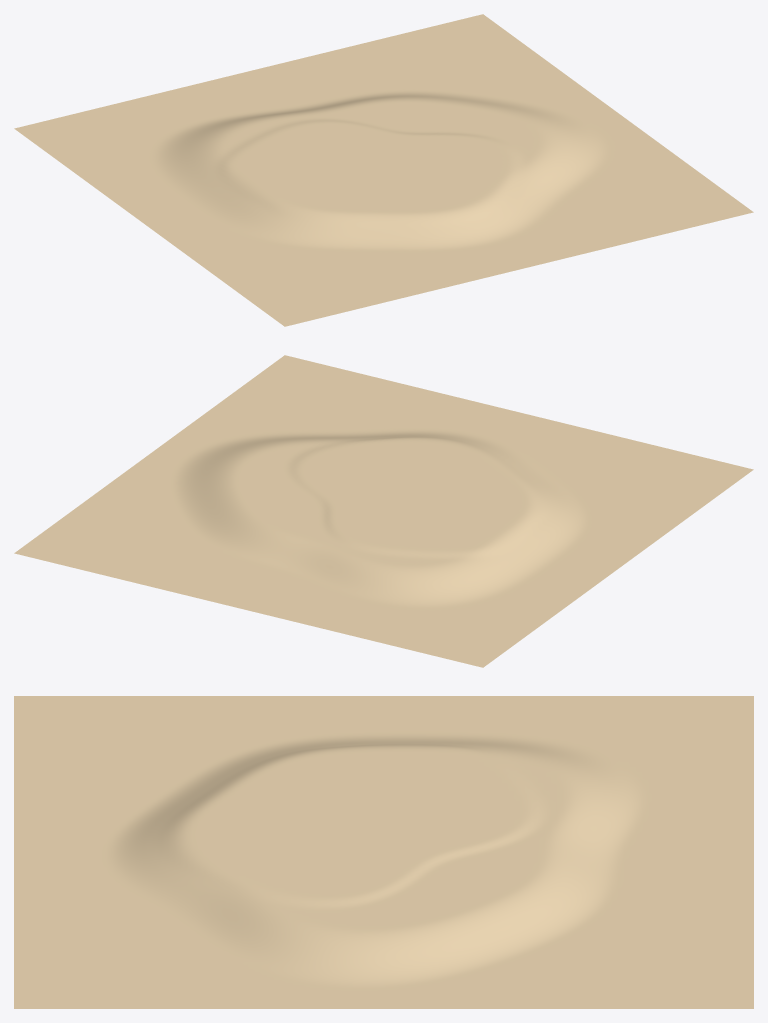
The model's file is island_terrain_start.obj.
The picture shows the model from 3 angles, top to bottom: view 1: azimuth 30°, elevation 25°; view 2: azimuth 150°, elevation 25°; view 3: azimuth 270°, elevation 25°; orthographic projection. The views are drawn at different scales.
Parts seen in each view (by area): view 1: island_terrain_start; view 2: island_terrain_start; view 3: island_terrain_start.
Part boxes in pixels (x1=…): island_terrain_start: x1=14, y1=14, x2=753, y2=326; island_terrain_start: x1=14, y1=355, x2=753, y2=667; island_terrain_start: x1=14, y1=696, x2=753, y2=1008.
Bounding box in the file's own units: 27.04 × 0.77 × 27.04.
